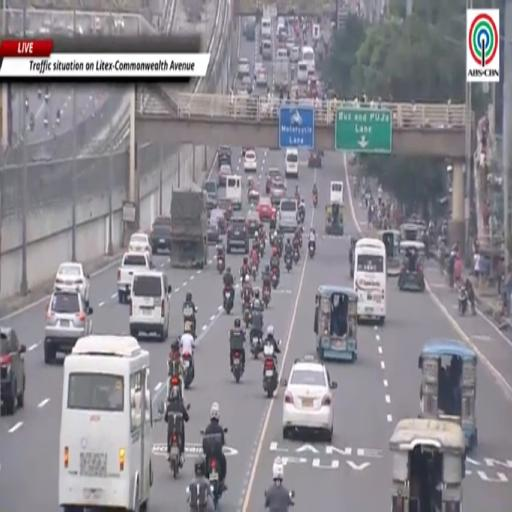bus: (59, 335, 152, 511), (354, 238, 386, 325), (300, 46, 316, 71)
car: (282, 357, 337, 441), (44, 292, 92, 363), (0, 328, 26, 414), (54, 262, 89, 303), (398, 240, 425, 292), (227, 217, 249, 253), (150, 216, 171, 253), (128, 232, 152, 259), (246, 209, 262, 239), (257, 197, 275, 221), (210, 208, 226, 234), (266, 168, 281, 195), (270, 181, 286, 205), (207, 216, 220, 244), (218, 198, 233, 221), (203, 180, 218, 200), (218, 165, 232, 186), (218, 146, 231, 168), (244, 150, 257, 172), (246, 176, 258, 197), (243, 20, 255, 41), (308, 150, 322, 168), (237, 58, 250, 76), (241, 75, 253, 94), (248, 184, 259, 204), (255, 61, 266, 79), (256, 69, 267, 87), (207, 196, 217, 215), (289, 46, 300, 62), (285, 37, 294, 55), (242, 147, 254, 156)
jeepney: (390, 419, 465, 511), (419, 339, 477, 450), (314, 285, 357, 361), (379, 230, 401, 276)
motorcycle: (169, 412, 183, 477), (207, 456, 223, 509), (263, 344, 278, 397), (183, 303, 197, 339), (182, 352, 194, 389), (231, 351, 243, 383), (183, 316, 196, 340), (251, 332, 262, 359), (224, 287, 233, 314), (459, 288, 468, 315), (259, 230, 266, 257), (262, 286, 270, 308), (244, 303, 251, 328), (271, 268, 279, 289), (284, 254, 293, 272), (217, 255, 225, 274), (309, 240, 315, 258), (298, 210, 305, 223), (252, 264, 257, 281), (294, 248, 299, 264), (289, 491, 294, 506), (313, 194, 317, 207)
truck: (171, 186, 208, 268), (117, 252, 152, 303), (274, 57, 290, 93)
